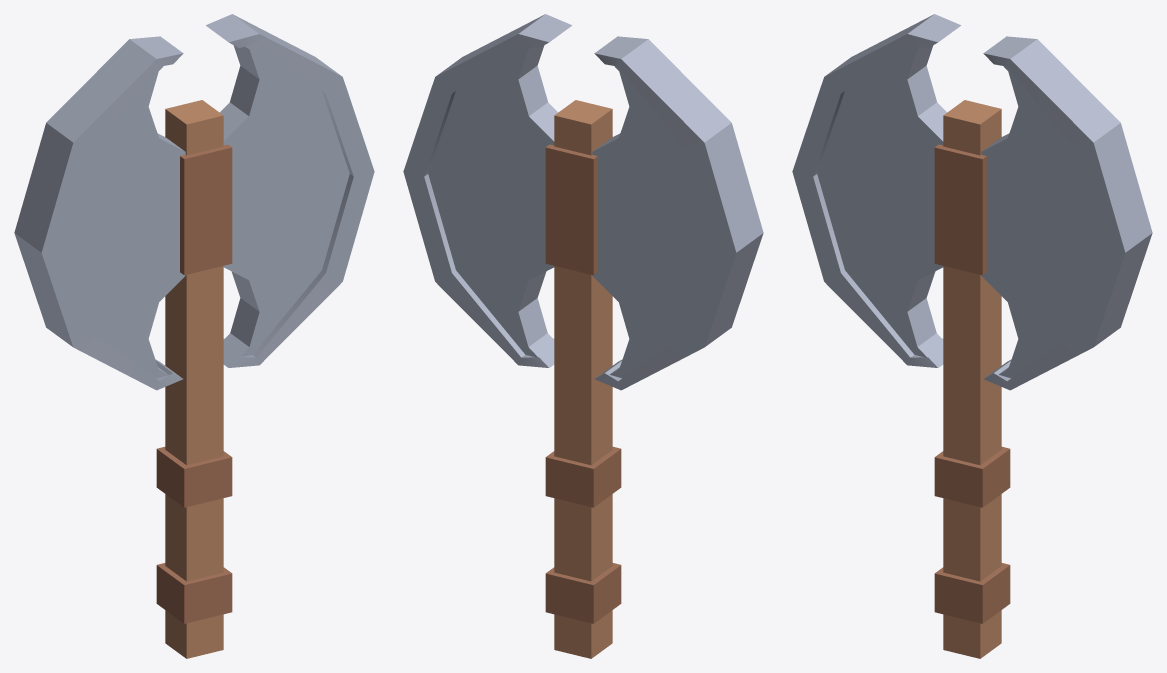
The model's file is AxePrefab.fbx.
The picture shows the model from 3 angles, left to right: view 1: azimuth 30°, elevation 25°; view 2: azimuth 150°, elevation 25°; view 3: azimuth 330°, elevation 25°; orthographic projection.
Parts seen in each view (by area): view 1: axeModel; view 2: axeModel; view 3: axeModel.
Boxes of the visible parts, left/top/right/bottom form: axeModel: left=14, top=14, right=374, bottom=658; axeModel: left=403, top=14, right=763, bottom=658; axeModel: left=792, top=14, right=1152, bottom=658.
Size of the model in its own units: 60 by 105 by 8.67.
